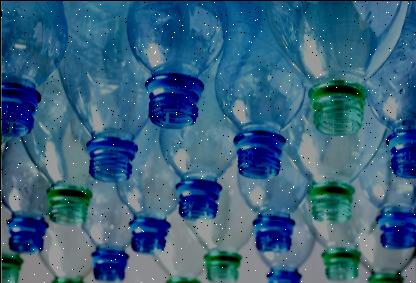Plastic Bottle: (262, 0, 412, 136), (127, 0, 228, 129), (214, 58, 306, 180), (0, 0, 66, 136), (364, 79, 416, 177)
